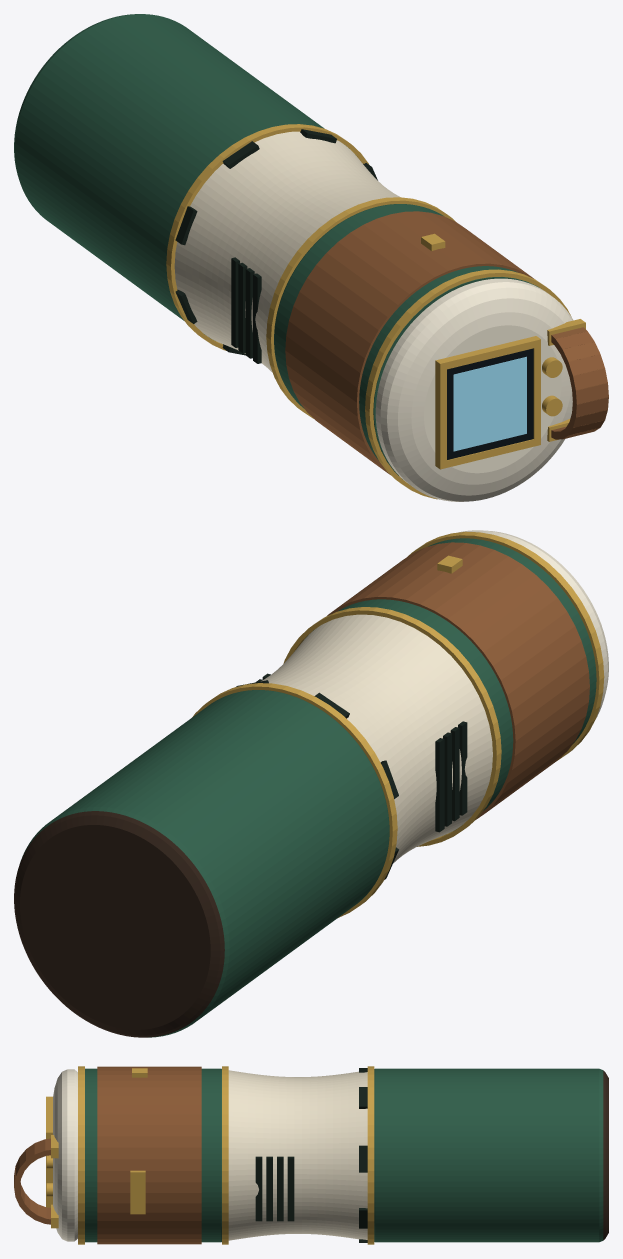
Rendered from thermox_bottle_classic_onepcb.obj.
3 views of the same model, one above another, from view 1: azimuth 30°, elevation 25°; view 2: azimuth 150°, elevation 25°; view 3: azimuth 270°, elevation 25° (orthographic). The views are drawn at different scales.
Visible parts, largest first — view 1: body_lower, body_waist, grip_wrap, lid, body_upper, oled_screen, trim_band_3, trim_band_1, trim_band_2, oled_1_5in, oled_bezel_b, oled_bezel_c (+5 smaller); view 2: body_lower, base_pad, body_waist, grip_wrap, body_upper, trim_band_2, trim_band_1, trim_band_3, lid, exhaust_slot_rear_1, exhaust_slot_rear_2, exhaust_slot_rear_3 (+1 smaller); view 3: body_lower, body_waist, grip_wrap, body_upper, lid, trim_band_1, trim_band_2, trim_band_3, base_pad, nameplate, exhaust_slot_front_1, exhaust_slot_front_4 (+3 smaller).
Boxes of the visible parts, x1,y1,x2,y2 form: body_lower: (14,14,349,338); body_waist: (174,131,400,372); grip_wrap: (285,211,533,474); lid: (375,278,573,501); body_upper: (274,204,539,479); oled_screen: (453,356,526,451); trim_band_3: (365,269,571,499); trim_band_1: (166,124,369,350); trim_band_2: (266,197,455,418); oled_1_5in: (447,348,533,459); oled_bezel_b: (435,336,540,370); oled_bezel_c: (435,368,446,462); body_lower: (20,690,389,1037); base_pad: (14,811,224,1037); body_waist: (261,614,492,863); grip_wrap: (327,542,589,819); body_upper: (305,538,596,830); trim_band_2: (283,607,501,846); trim_band_1: (192,683,397,917); trim_band_3: (407,531,604,759); lid: (458,530,608,717); exhaust_slot_rear_1: (435,738,444,832); exhaust_slot_rear_2: (443,732,451,826); exhaust_slot_rear_3: (450,727,459,821); body_lower: (374,1068,603,1242); body_waist: (228,1070,367,1240); grip_wrap: (97,1066,201,1244); body_upper: (85,1068,221,1242); lid: (53,1069,77,1241); trim_band_1: (367,1066,374,1244); trim_band_2: (222,1066,228,1244); trim_band_3: (78,1066,84,1244); base_pad: (603,1070,608,1240); nameplate: (130,1170,145,1214); exhaust_slot_front_1: (287,1156,294,1221); exhaust_slot_front_4: (255,1156,262,1221).
Bounding box in the file's own units: 92.5 × 97 × 308.
